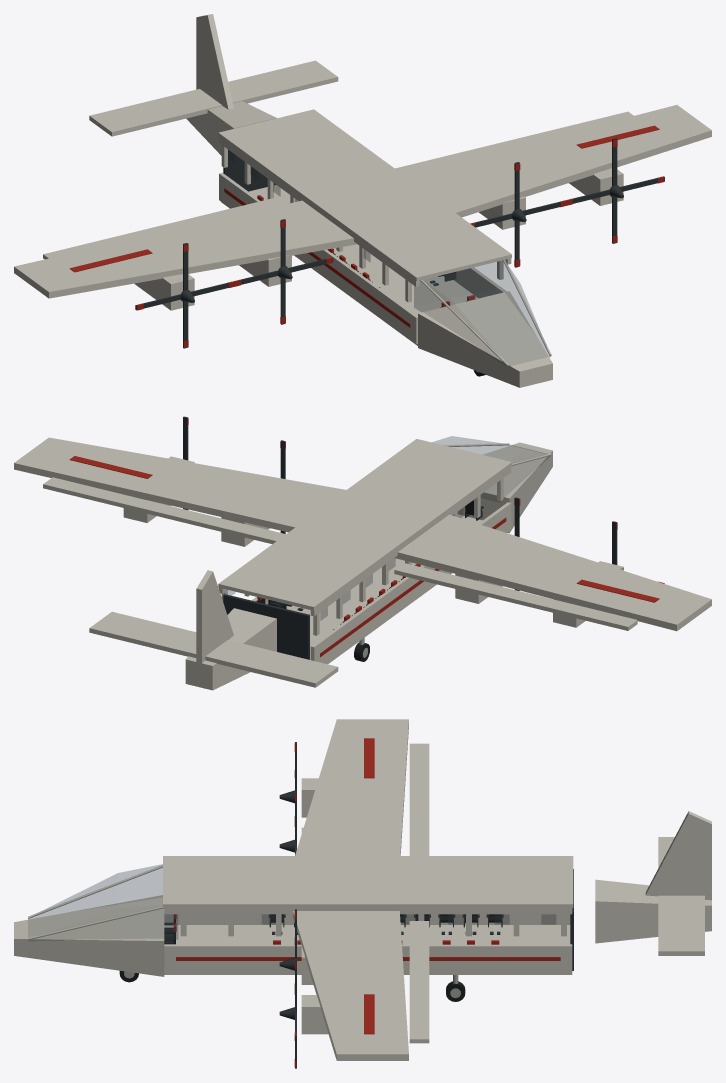
3 views of the same model, one above another, from view 1: azimuth 30°, elevation 25°; view 2: azimuth 150°, elevation 25°; view 3: azimuth 270°, elevation 25° (orthographic). The views are drawn at different scales.
Parts seen in each view (by area): view 1: troop-plane-painted, transport-roof-painted, troop-plane-glazing, flap-1-painted, flap--1-painted, propeller--1-11-painted, propeller-1-11-painted, propeller--1-6-painted, propeller-1-6-painted, breakaway-1-painted, transport-ramp-painted, breakaway-0-painted (+1 smaller); view 2: troop-plane-painted, transport-roof-painted, flap--1-painted, flap-1-painted, troop-plane-glazing, transport-ramp-painted, crew-seating-batch-painted; view 3: troop-plane-painted, transport-roof-painted, troop-plane-glazing, flap-1-painted, flap--1-painted, crew-seating-batch-painted.
Part boxes in pixels (x1,y1,x2,y2): troop-plane-painted: [14, 14, 711, 387]; transport-roof-painted: [218, 109, 511, 302]; troop-plane-glazing: [228, 150, 550, 367]; flap-1-painted: [395, 111, 633, 175]; flap--1-painted: [43, 197, 286, 259]; propeller--1-11-painted: [135, 243, 235, 348]; propeller-1-11-painted: [566, 138, 664, 243]; propeller--1-6-painted: [234, 219, 333, 324]; propeller-1-6-painted: [470, 162, 566, 267]; breakaway-1-painted: [134, 274, 194, 310]; transport-ramp-painted: [223, 150, 275, 191]; breakaway-0-painted: [239, 255, 291, 286]; troop-plane-painted: [14, 437, 711, 690]; transport-roof-painted: [218, 439, 511, 635]; flap--1-painted: [394, 563, 637, 630]; flap-1-painted: [43, 477, 285, 544]; troop-plane-glazing: [228, 436, 550, 620]; transport-ramp-painted: [223, 594, 309, 659]; crew-seating-batch-painted: [256, 500, 483, 629]; troop-plane-painted: [14, 719, 711, 1060]; transport-roof-painted: [163, 856, 573, 936]; troop-plane-glazing: [28, 864, 555, 940]; flap-1-painted: [409, 921, 429, 1043]; flap--1-painted: [409, 743, 429, 855]; crew-seating-batch-painted: [164, 914, 503, 944].
Bounding box in the file's own units: 179 × 42.02 × 158.
